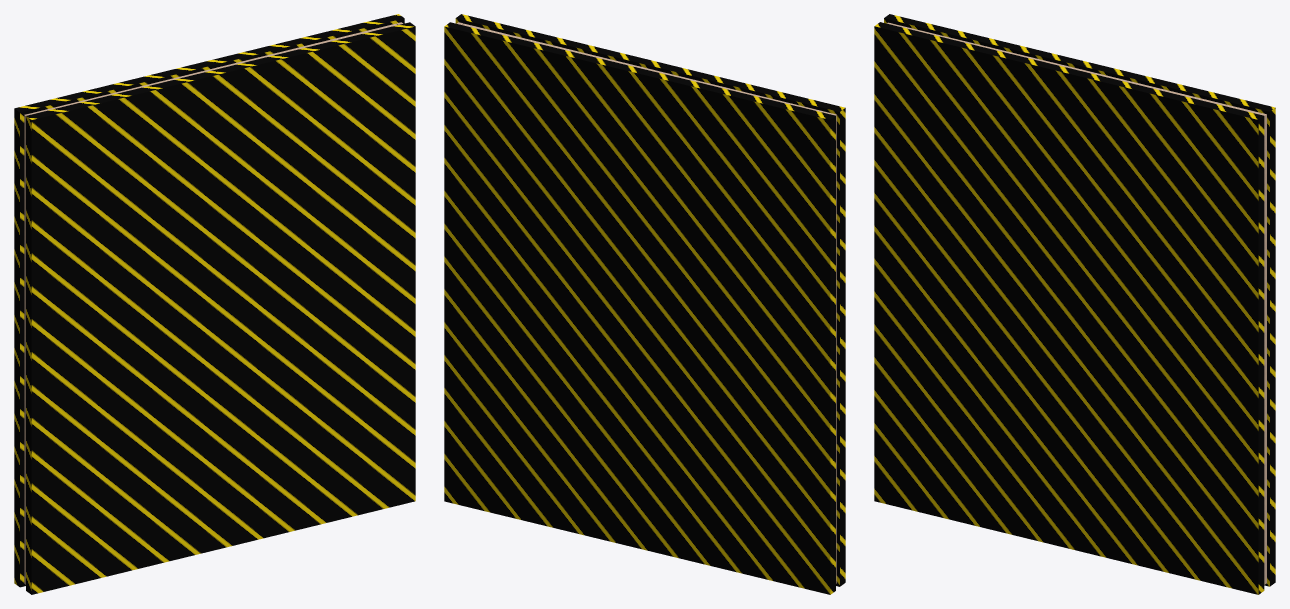
Rendered from WALLSET_S.FBX.
The picture shows the model from 3 angles, left to right: view 1: azimuth 30°, elevation 25°; view 2: azimuth 150°, elevation 25°; view 3: azimuth 330°, elevation 25°; orthographic projection.
Parts seen in each view (by area): view 1: SELECTOR_12, FRAME_24; view 2: SELECTOR_12, FRAME_24; view 3: SELECTOR_12, FRAME_24.
Part boxes in pixels (left/top/right/bottom): SELECTOR_12: left=14, top=14, right=415, bottom=594; FRAME_24: left=24, top=22, right=403, bottom=584; SELECTOR_12: left=444, top=14, right=845, bottom=594; FRAME_24: left=456, top=22, right=836, bottom=583; SELECTOR_12: left=874, top=14, right=1275, bottom=594; FRAME_24: left=887, top=22, right=1266, bottom=584.
Bounding box in the file's own units: 76.66 × 90.28 × 5.88.
